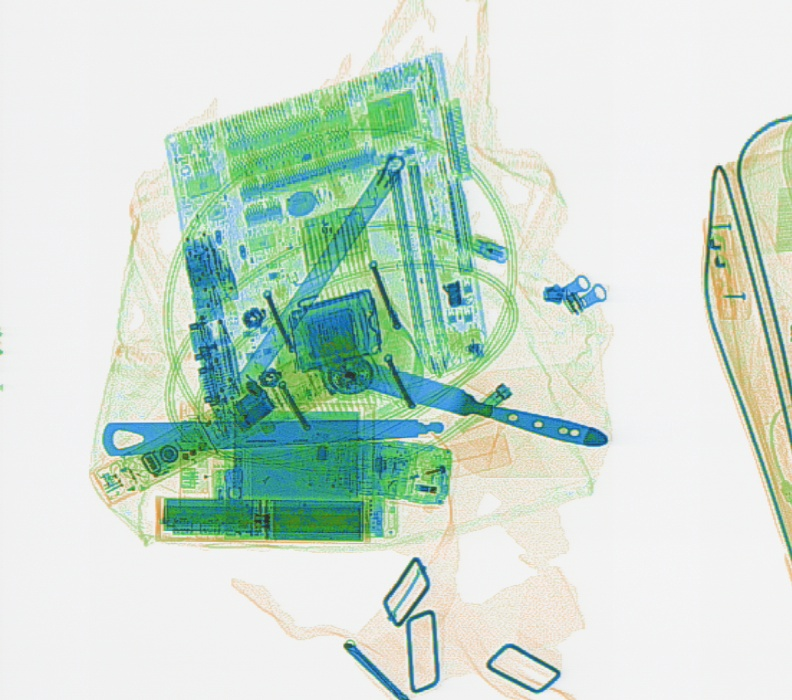knife: (305, 350, 607, 449)
powerbank: (149, 493, 373, 547)
